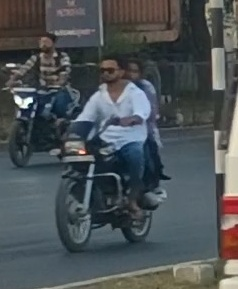BikeWithRider: (47, 50, 173, 251), (3, 27, 83, 164)
NoHelmet: (96, 53, 126, 85), (120, 53, 144, 87), (35, 29, 59, 56)
